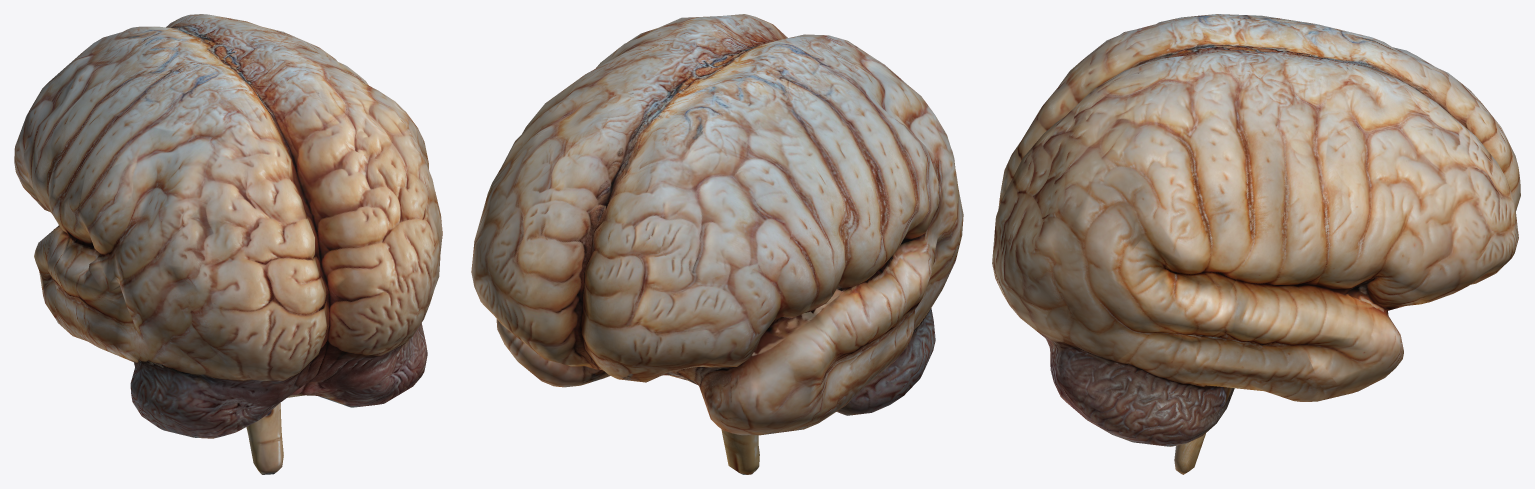
The model's file is brain.obj.
3 renders of one model, left to right at view 1: azimuth 30°, elevation 25°; view 2: azimuth 150°, elevation 25°; view 3: azimuth 270°, elevation 25°, orthographic. The views are drawn at different scales.
Visible parts, largest first — view 1: Mesh_0; view 2: Mesh_0; view 3: Mesh_0.
Boxes of the visible parts, x1=… form: Mesh_0: x1=14, y1=14, x2=442, y2=474; Mesh_0: x1=471, y1=14, x2=963, y2=474; Mesh_0: x1=992, y1=14, x2=1520, y2=474.
Size of the model in its own units: 0.9267 by 1.08 by 1.2.
Materials: 1 (1 with a texture image).
